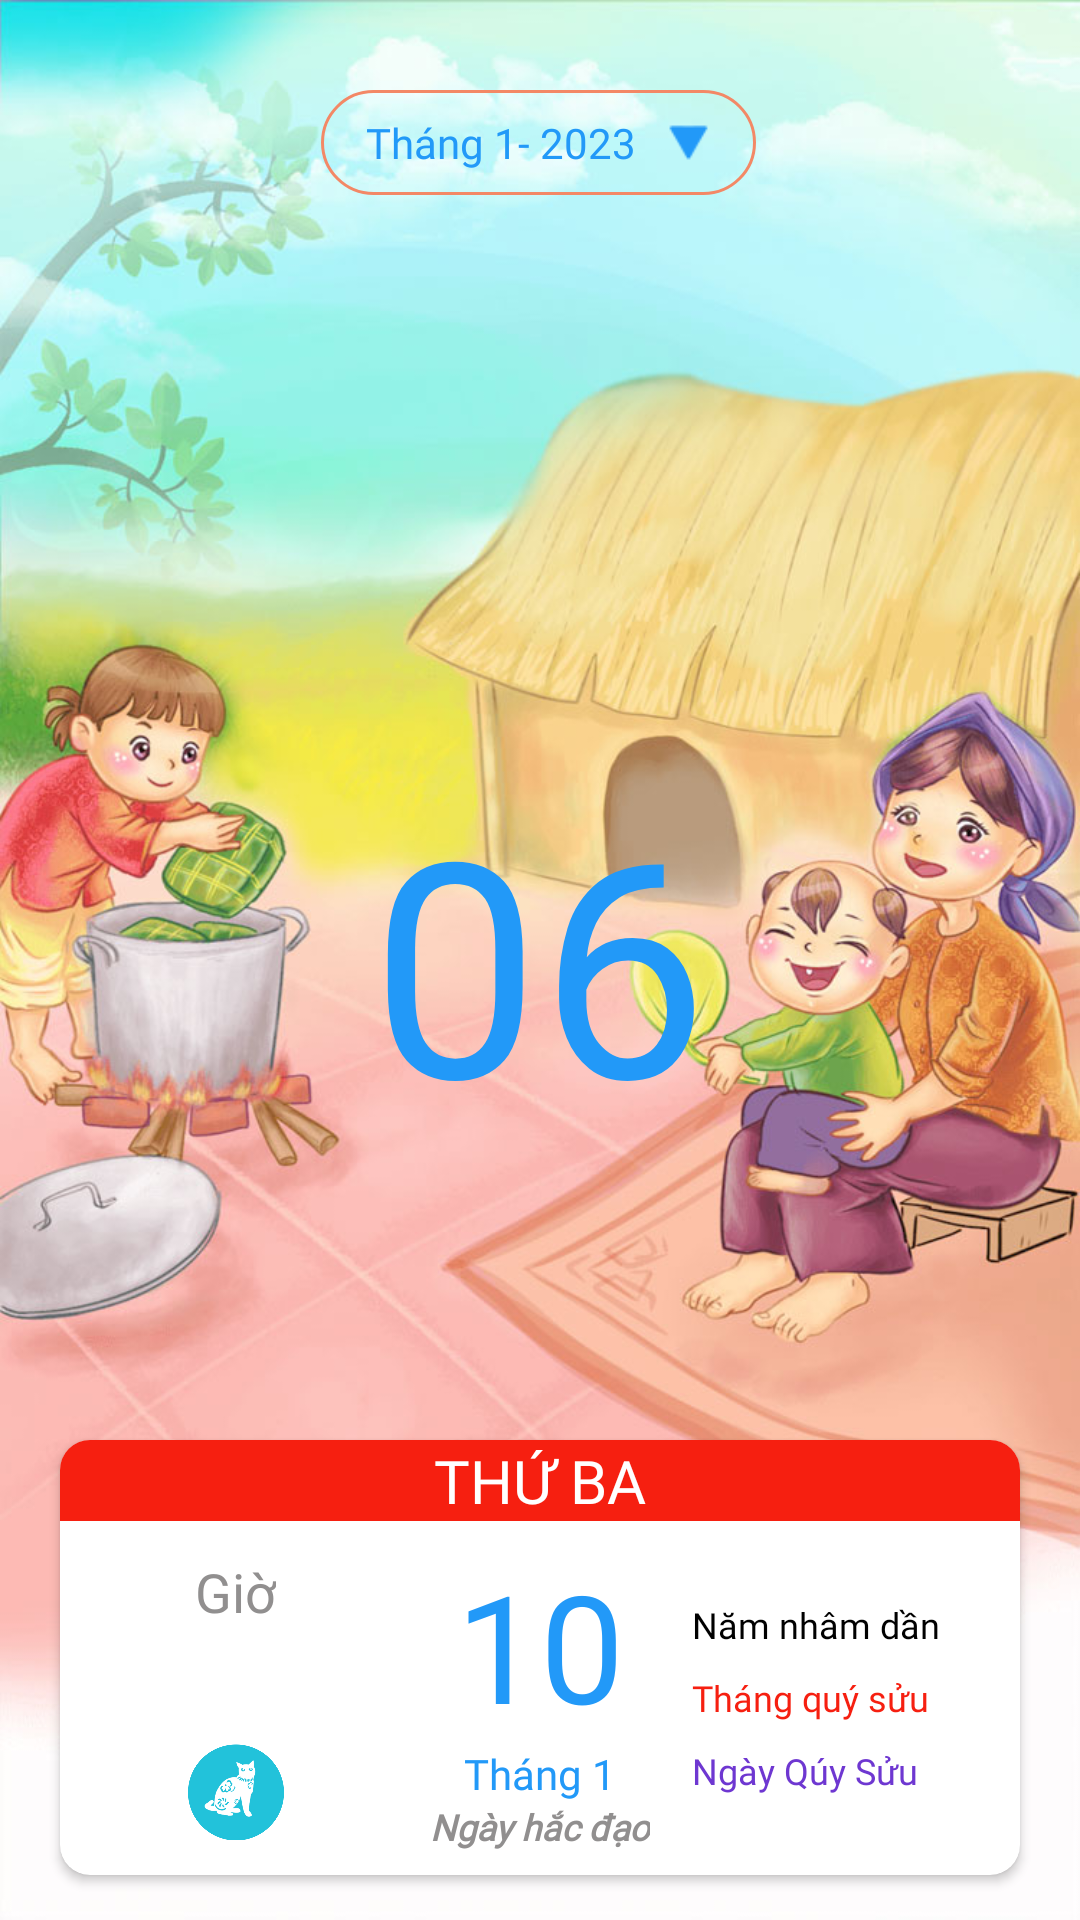

Icon click points for this 1080w x 1920h phone screenshot, format point (x, y):
arrow: point (688, 142)
mao: point (236, 1792)
